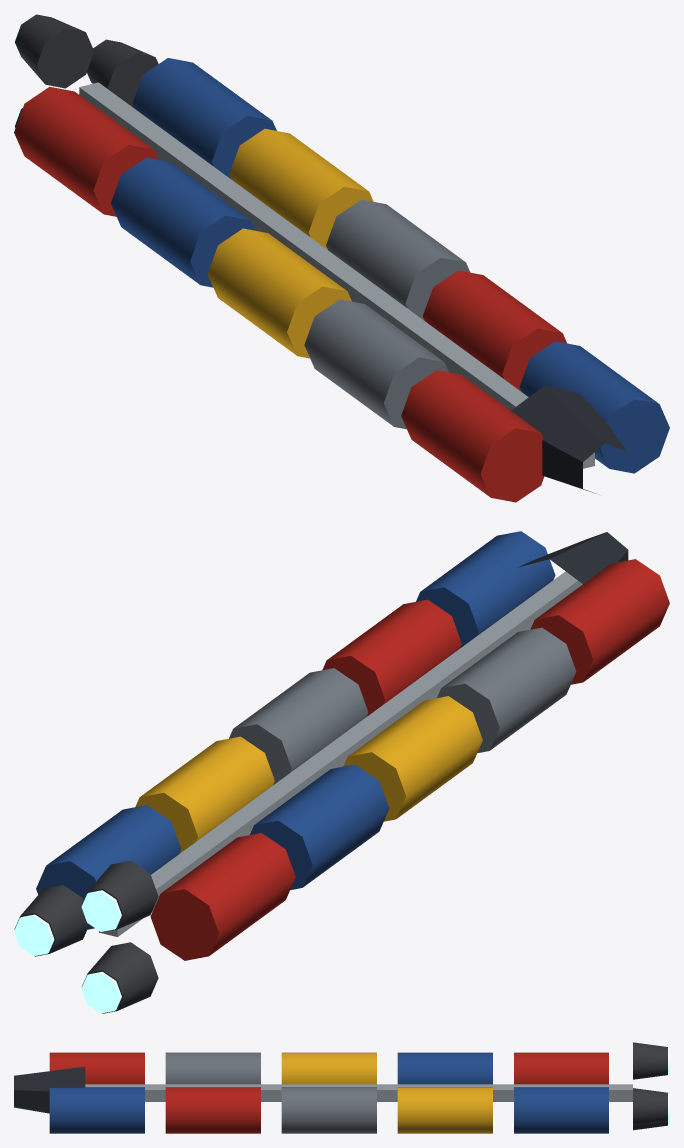
The model's file is space_ship_logistics_mk4.glb.
3 views of the same model, one above another, from view 1: azimuth 30°, elevation 25°; view 2: azimuth 150°, elevation 25°; view 3: azimuth 270°, elevation 25° (orthographic). The views are drawn at different scales.
Parts seen in each view (by area): view 1: body, pod_4_0, pod_1_0, pod_3_0, pod_0_0, pod_2_0, pod_3_1, pod_0_1, pod_1_1, pod_2_1, pod_4_1, engine_1 (+1 smaller); view 2: body, pod_0_0, pod_2_0, pod_4_0, pod_1_0, pod_3_0, pod_2_1, pod_3_1, pod_1_1, pod_4_1, pod_0_1, engine_2 (+2 smaller); view 3: body, pod_1_1, pod_2_1, pod_3_1, pod_4_1, pod_0_1, pod_1_0, pod_2_0, pod_3_0, pod_0_0, pod_4_0, engine_1 (+2 smaller).
Boxes of the visible parts, x1=… form: body: x1=79, y1=82, x2=626, y2=493; pod_4_0: x1=401, y1=370, x2=544, y2=502; pod_1_0: x1=111, y1=157, x2=254, y2=287; pod_3_0: x1=304, y1=299, x2=448, y2=429; pod_0_0: x1=14, y1=86, x2=158, y2=216; pod_2_0: x1=207, y1=228, x2=351, y2=358; pod_3_1: x1=423, y1=270, x2=566, y2=391; pod_0_1: x1=132, y1=58, x2=276, y2=178; pod_1_1: x1=229, y1=128, x2=373, y2=249; pod_2_1: x1=326, y1=199, x2=470, y2=320; pod_4_1: x1=519, y1=341, x2=669, y2=473; engine_1: x1=14, y1=14, x2=94, y2=88; body: x1=99, y1=532, x2=628, y2=936; pod_0_0: x1=150, y1=833, x2=295, y2=960; pod_2_0: x1=343, y1=696, x2=482, y2=821; pod_4_0: x1=530, y1=559, x2=669, y2=684; pod_1_0: x1=250, y1=764, x2=389, y2=889; pod_3_0: x1=437, y1=627, x2=576, y2=753; pod_2_1: x1=229, y1=668, x2=368, y2=785; pod_3_1: x1=322, y1=599, x2=461, y2=716; pod_1_1: x1=135, y1=736, x2=274, y2=853; pod_4_1: x1=416, y1=531, x2=555, y2=648; pod_0_1: x1=36, y1=805, x2=181, y2=929; engine_2: x1=81, y1=942, x2=158, y2=1013; body: x1=14, y1=1066, x2=632, y2=1113; pod_1_1: x1=397, y1=1087, x2=492, y2=1133; pod_2_1: x1=281, y1=1087, x2=376, y2=1133; pod_3_1: x1=165, y1=1087, x2=260, y2=1133; pod_4_1: x1=49, y1=1087, x2=144, y2=1133; pod_0_1: x1=514, y1=1087, x2=608, y2=1133; pod_1_0: x1=397, y1=1052, x2=492, y2=1084; pod_2_0: x1=281, y1=1052, x2=376, y2=1084; pod_3_0: x1=165, y1=1052, x2=260, y2=1084; pod_0_0: x1=514, y1=1052, x2=608, y2=1084; pod_4_0: x1=49, y1=1052, x2=144, y2=1084; engine_1: x1=633, y1=1042, x2=669, y2=1079.
Size of what is drawn, in the model's own units: 7.8 by 5.68 by 38.98.
